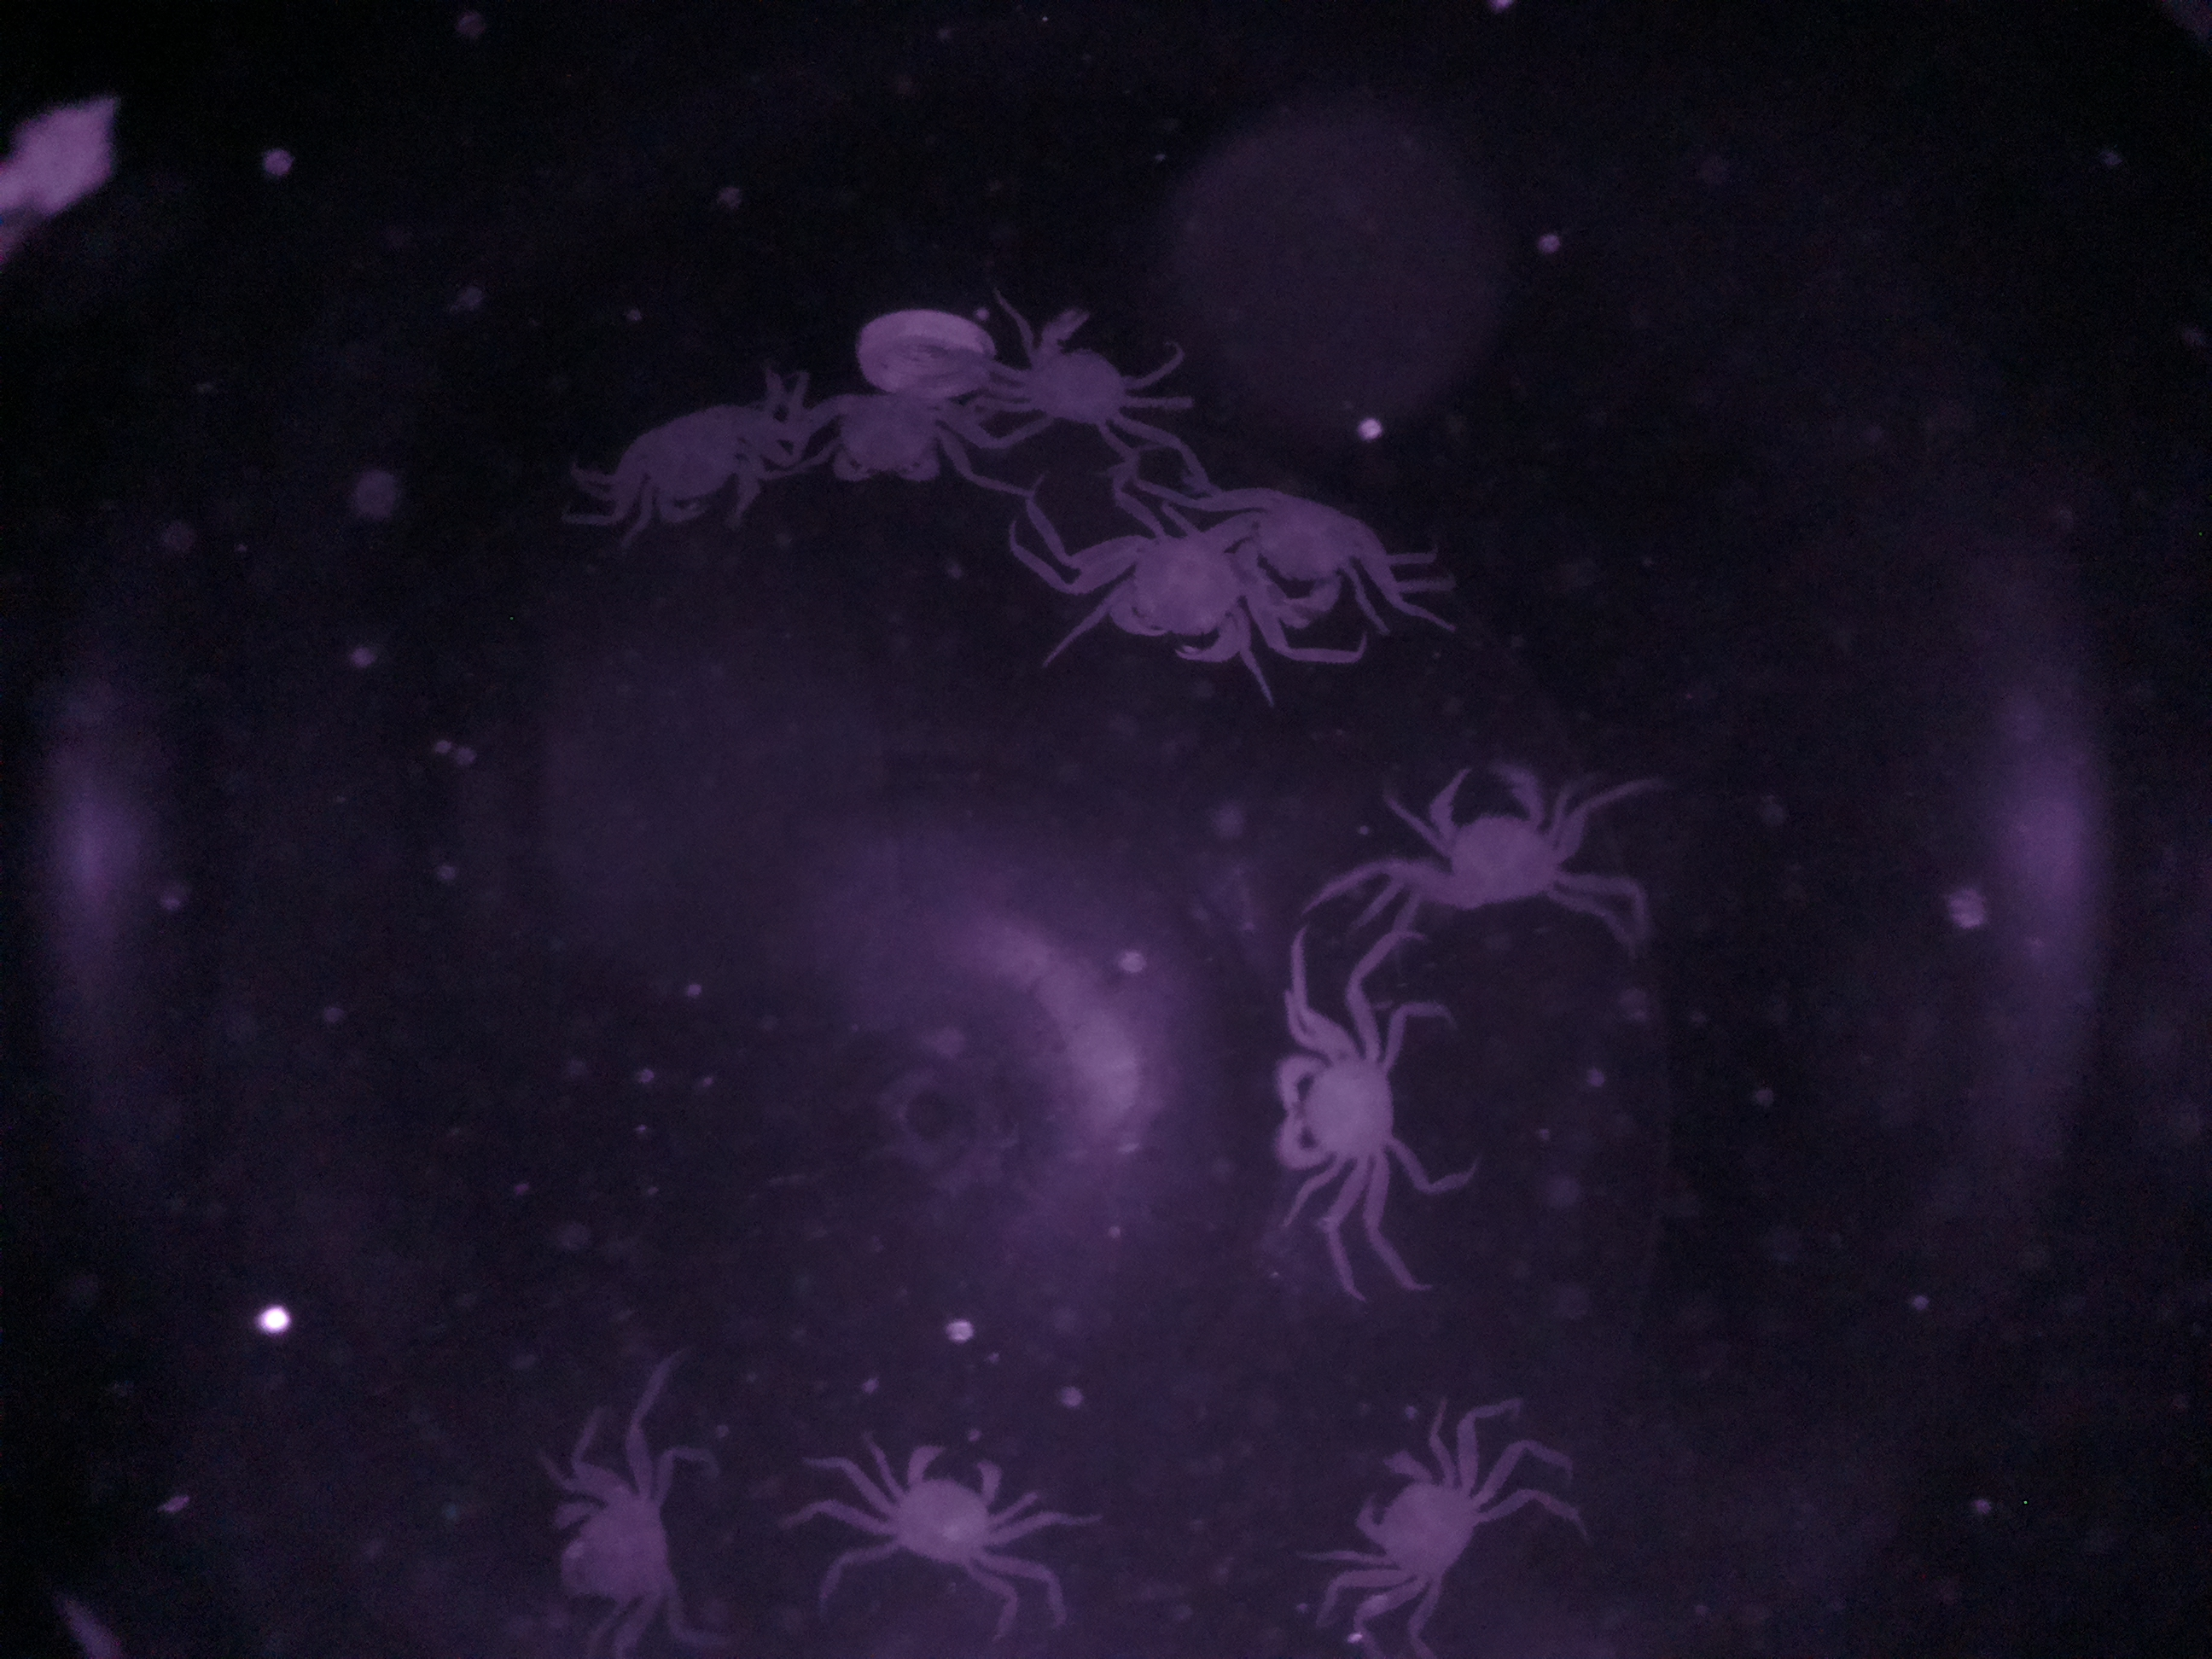Crab: (1376, 735, 1588, 946), (1245, 1009, 1433, 1227), (1329, 1420, 1507, 1631), (866, 1420, 1038, 1600), (989, 282, 1165, 455)
